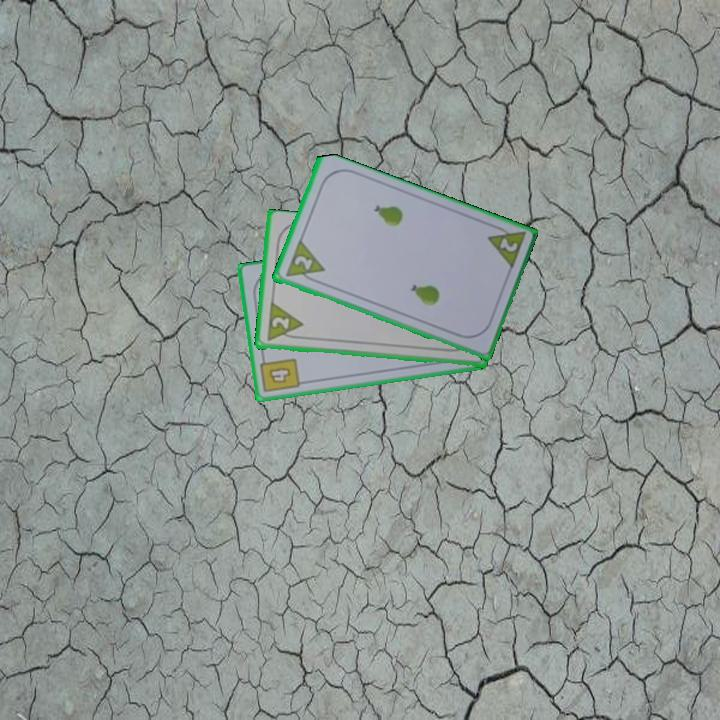2p: (483, 220, 528, 273), (263, 301, 305, 344), (290, 252, 315, 274)
4b: (257, 352, 303, 396)
